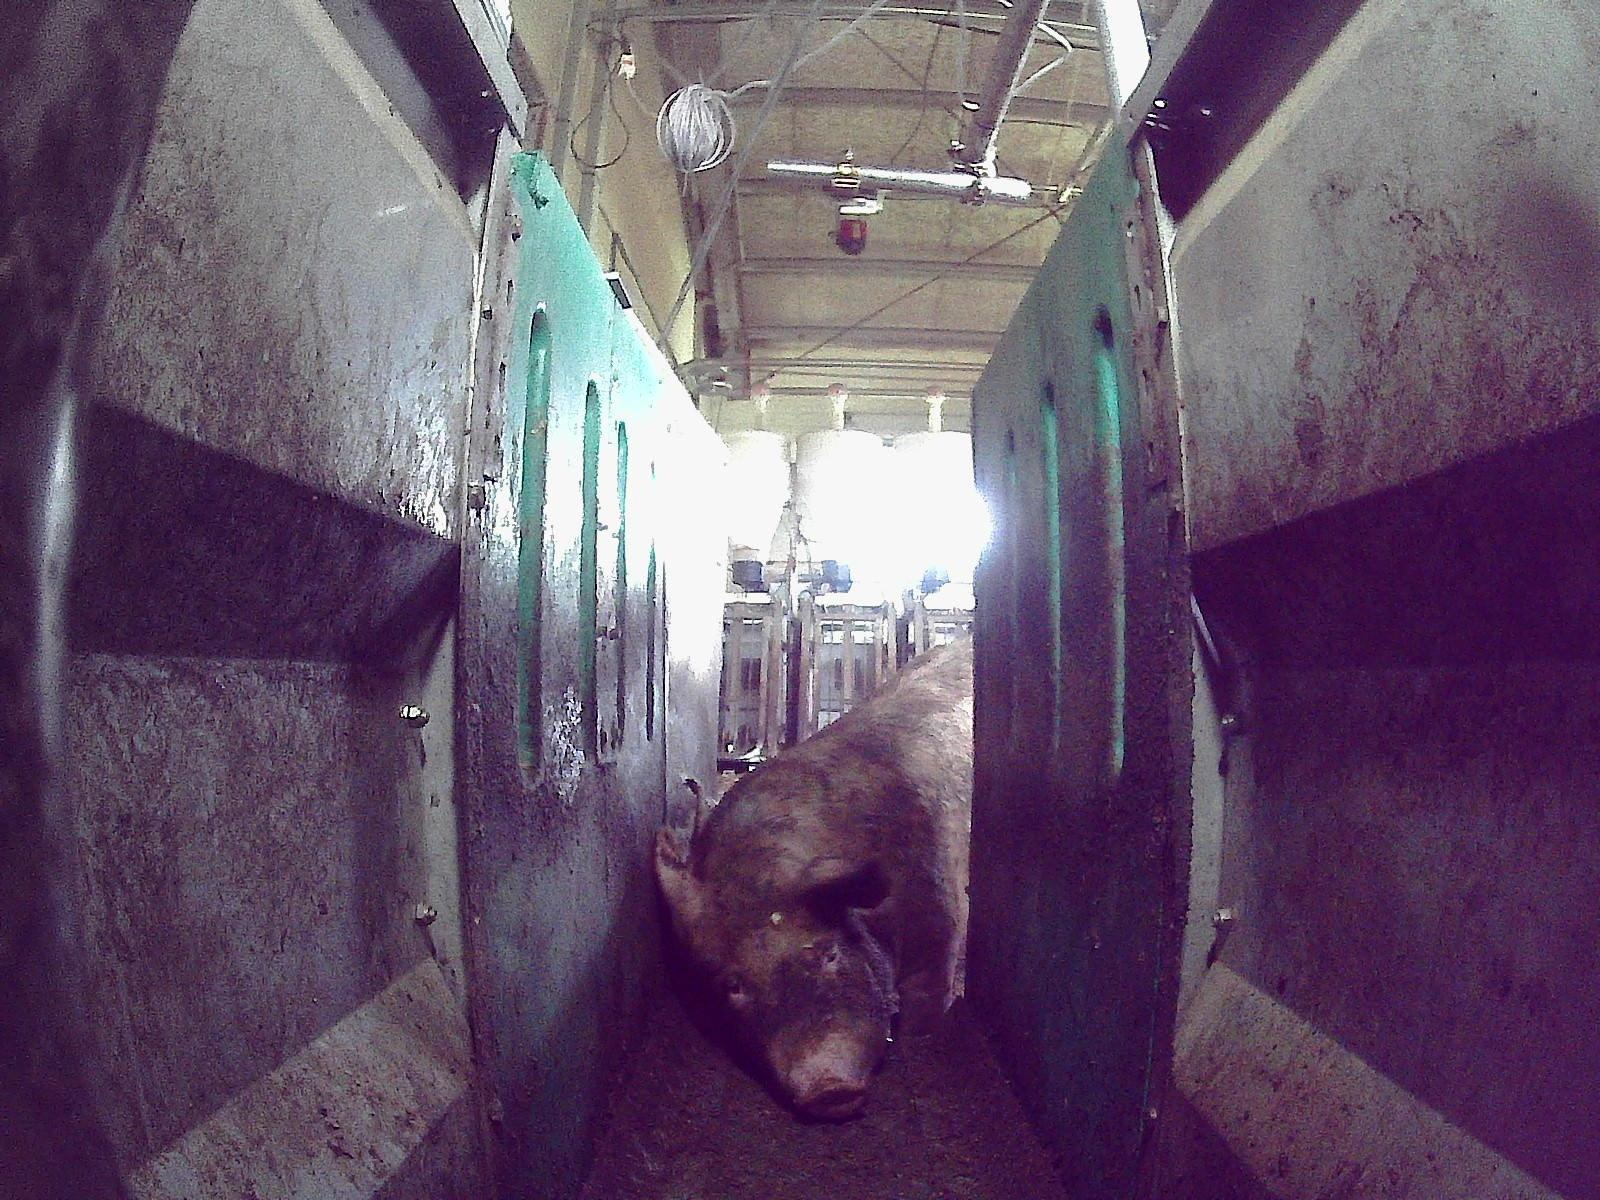Face: (704, 893, 892, 1122)
